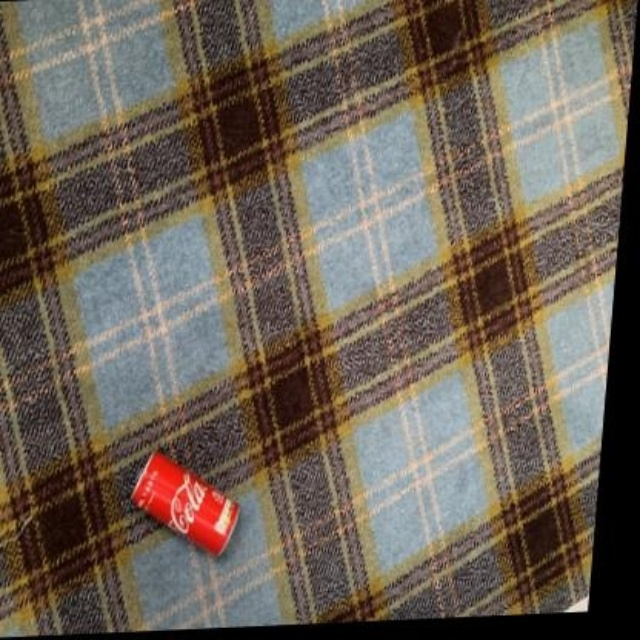trash: (132, 452, 237, 554)
